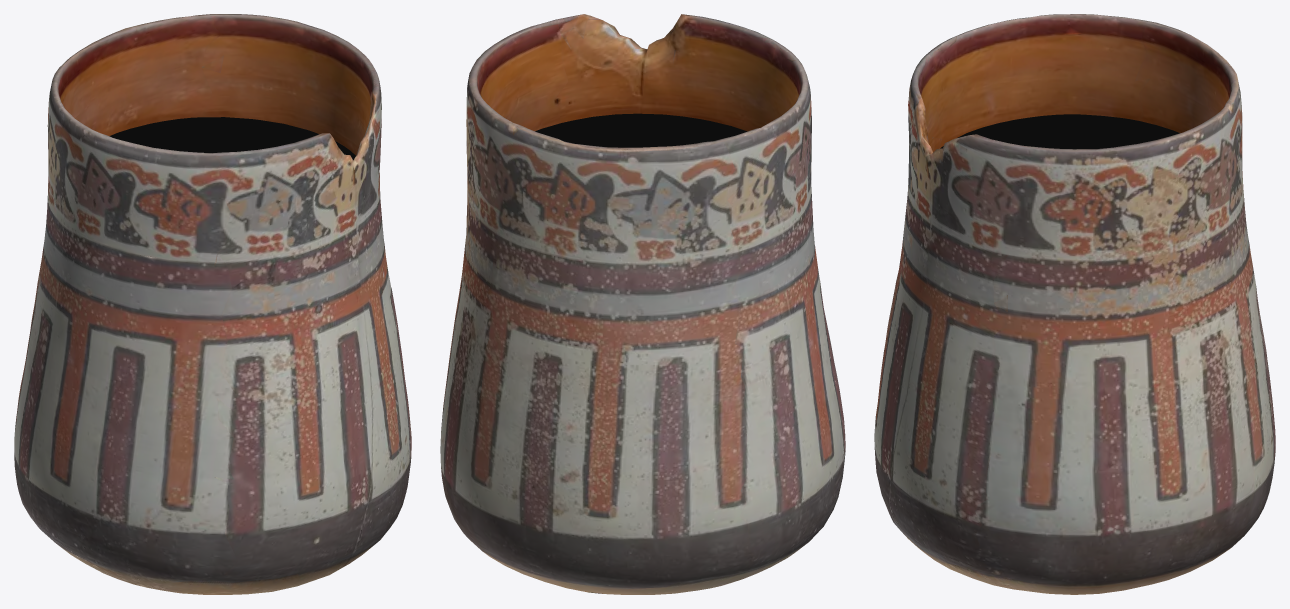
File: preview.glb
The picture shows the model from 3 angles, left to right: view 1: azimuth 30°, elevation 25°; view 2: azimuth 150°, elevation 25°; view 3: azimuth 270°, elevation 25°; orthographic projection.
Parts seen in each view (by area): view 1: Object_2, Object_3; view 2: Object_2, Object_3; view 3: Object_2, Object_3.
Boxes of the visible parts, x1=… form: Object_2: x1=14, y1=14, x2=411, y2=594; Object_3: x1=109, y1=117, x2=355, y2=160; Object_2: x1=440, y1=14, x2=845, y2=594; Object_3: x1=535, y1=113, x2=747, y2=147; Object_2: x1=874, y1=14, x2=1275, y2=594; Object_3: x1=940, y1=114, x2=1179, y2=149.
Size of the model in its own units: 0.1129 by 0.1501 by 0.114.
2 materials, 1 textured.
